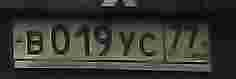license-plateSW: (12, 17, 210, 68)
